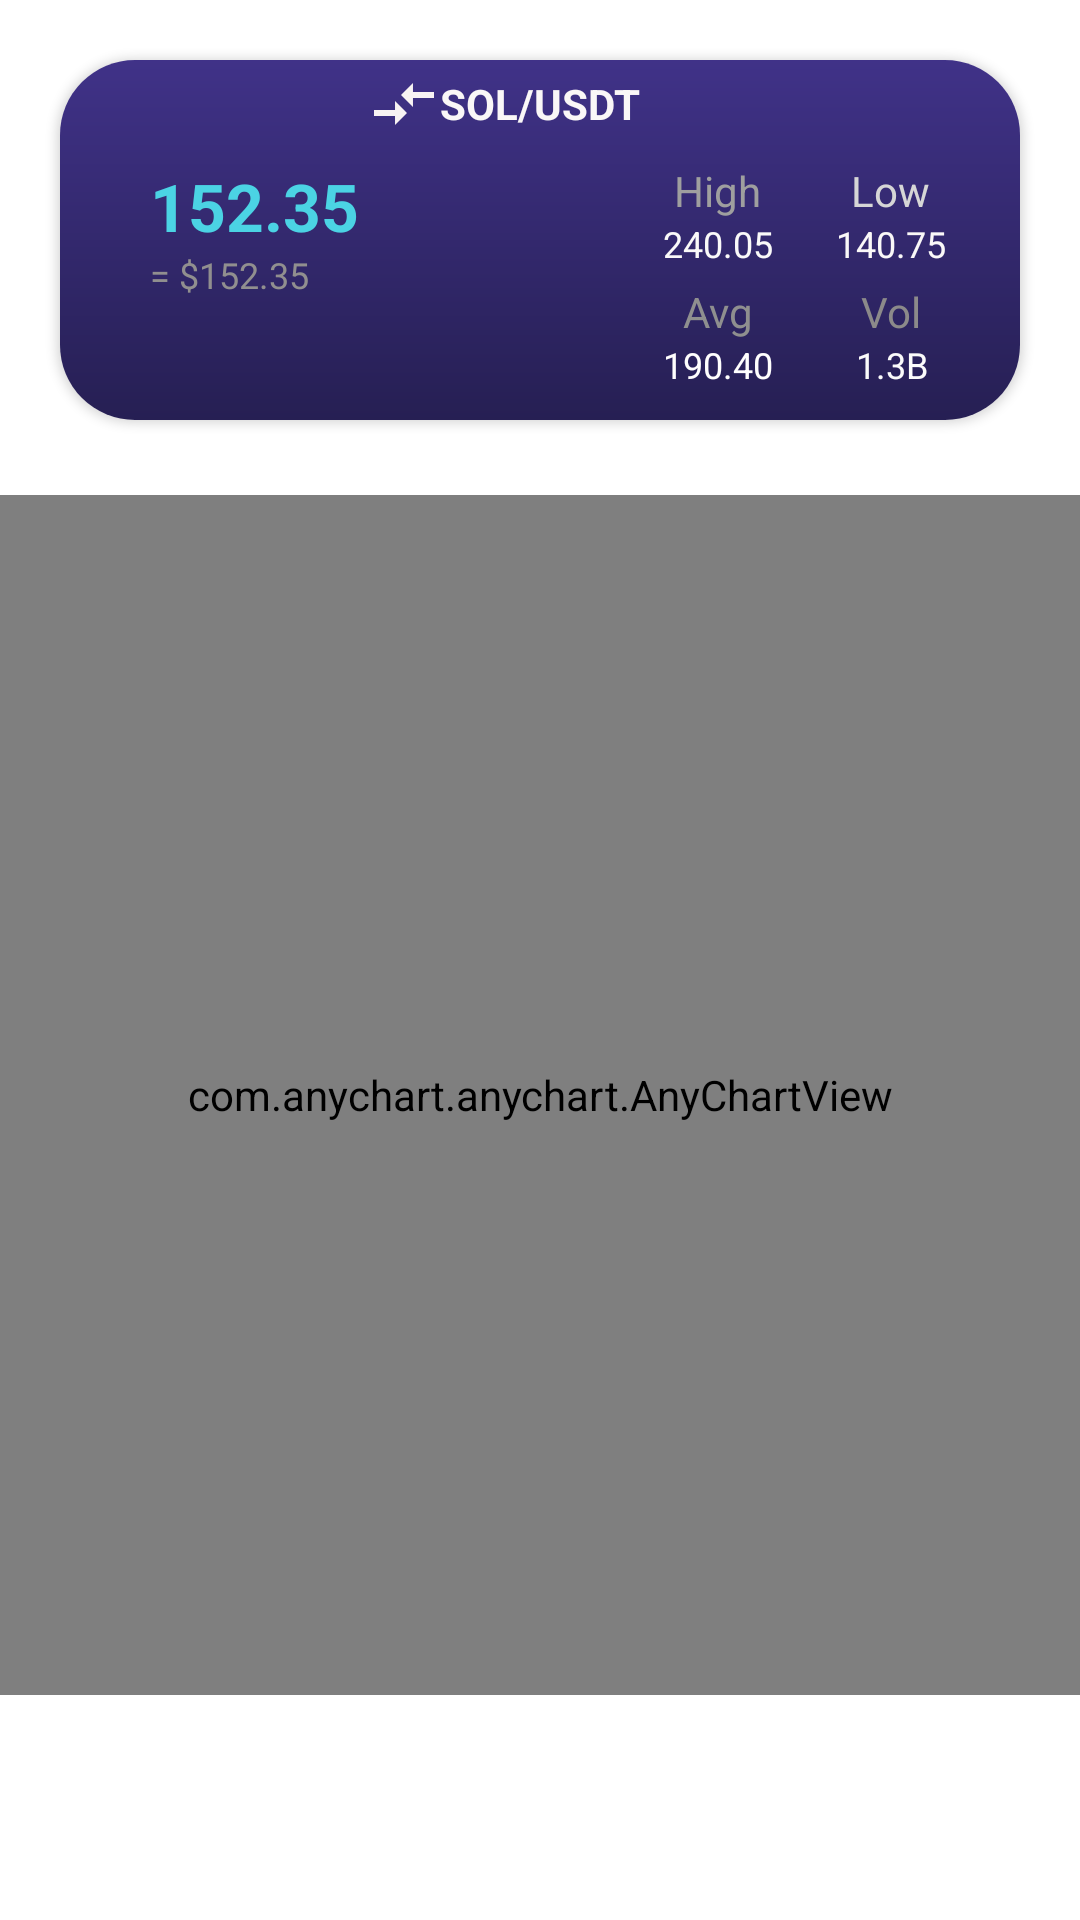

Where icons sit on this 1080*1920 app screen, as [left=x1, top=y1, right=x2, bottom=y2]:
compare arrows: [left=374, top=83, right=434, bottom=125]
